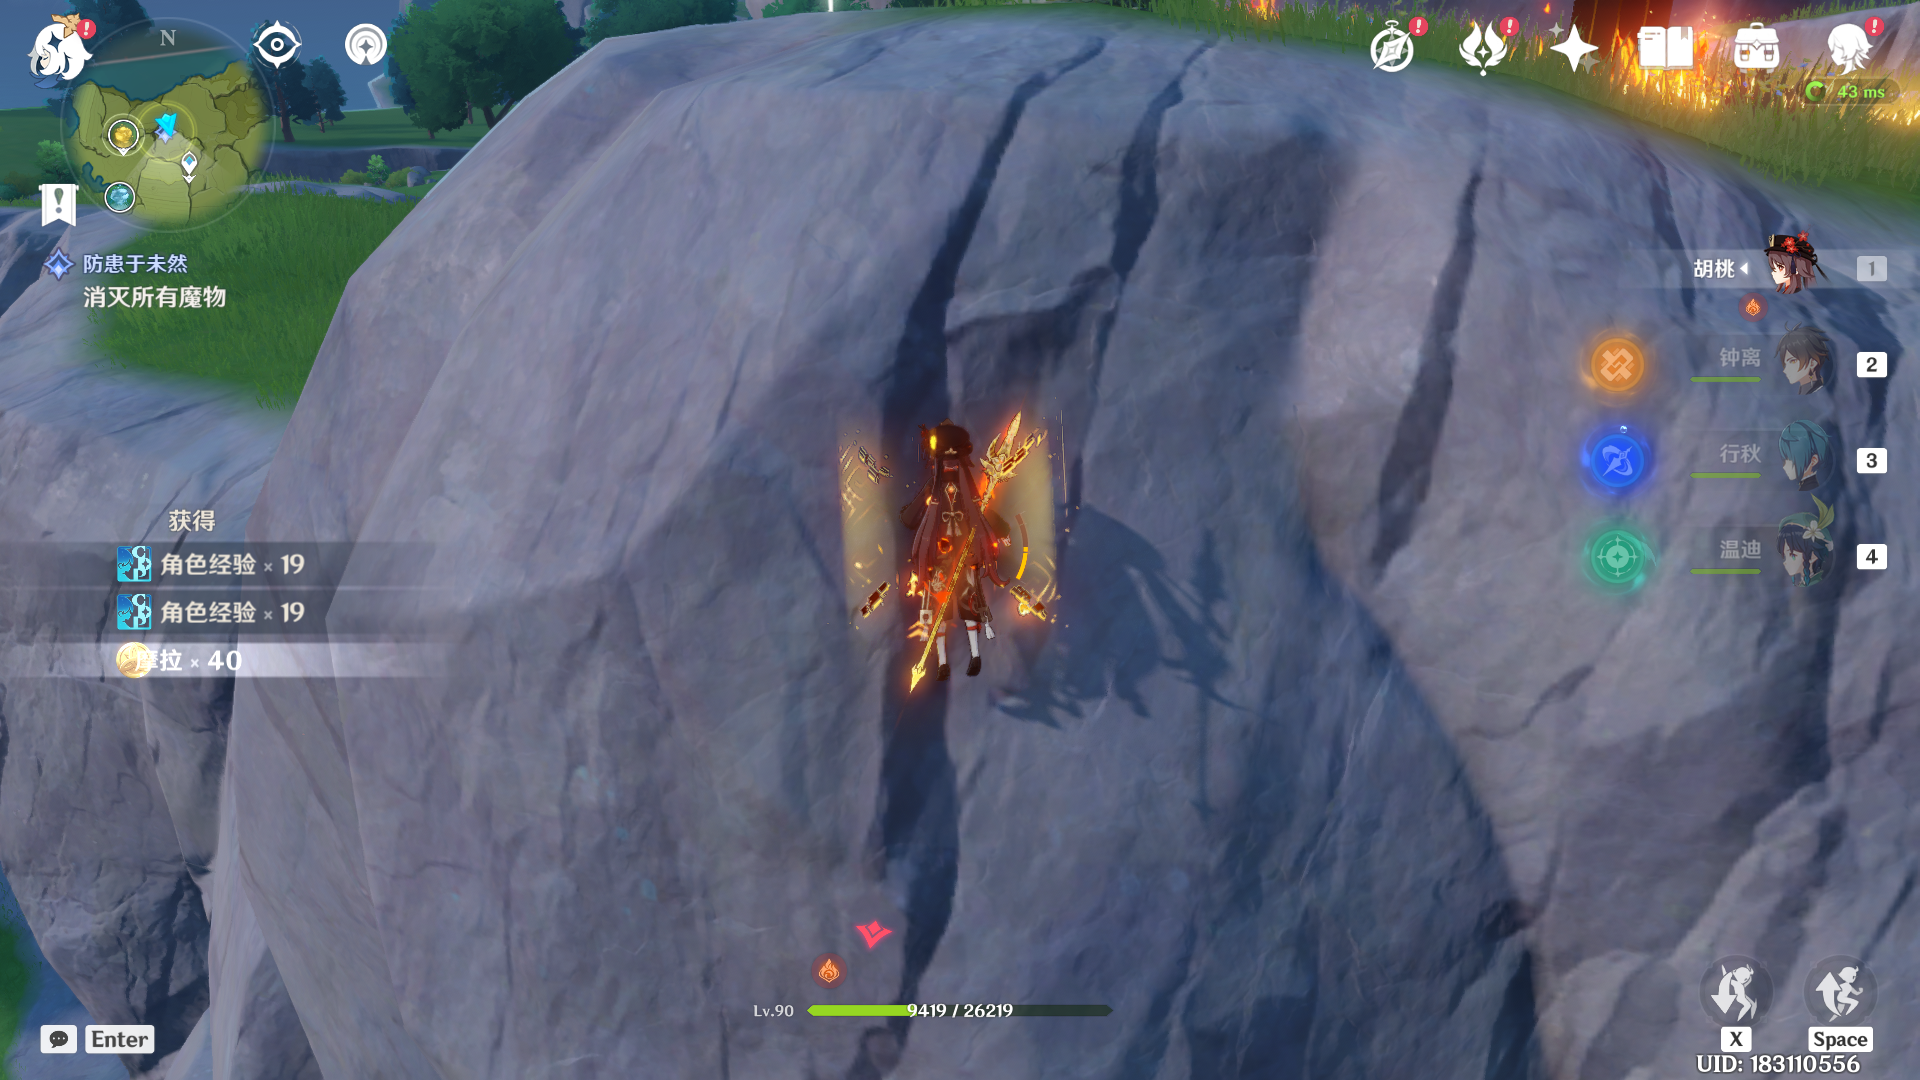character: (808, 359, 1083, 716)
